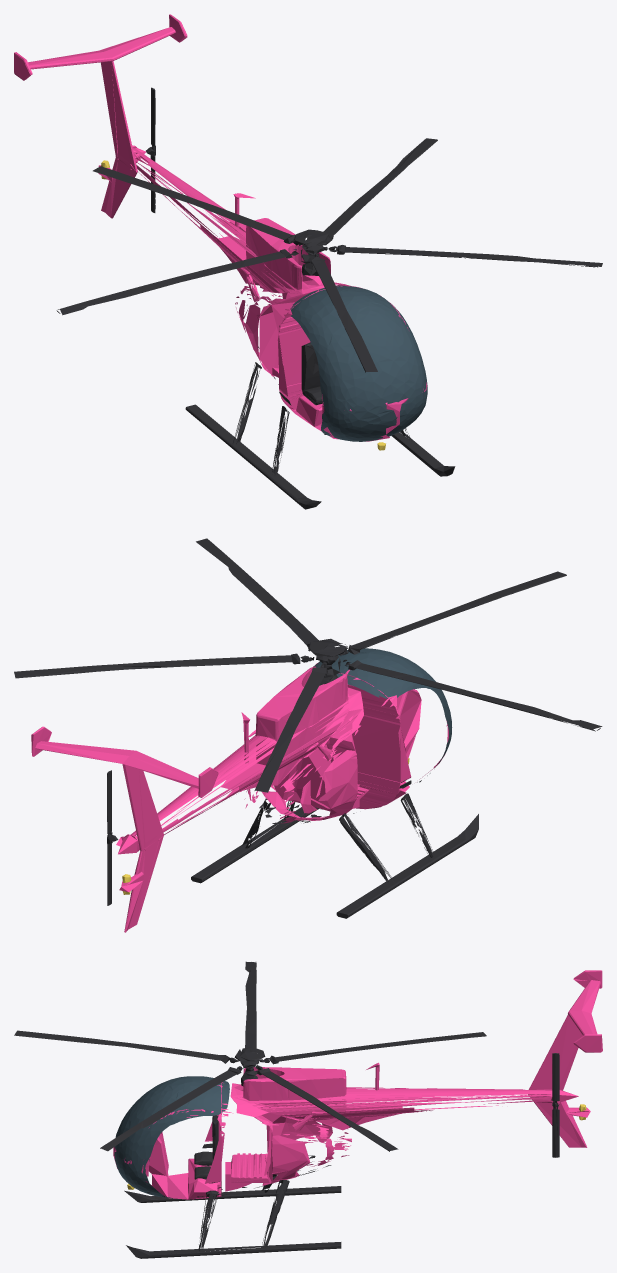
Rendered from heli.glb.
3 renders of one model, top to bottom at view 1: azimuth 30°, elevation 25°; view 2: azimuth 150°, elevation 25°; view 3: azimuth 270°, elevation 25°, orthographic. The views are drawn at different scales.
Parts seen in each view (by area): view 1: body, rotor; view 2: body, rotor, tail; view 3: body, rotor, tail.
Part boxes in pixels (x1=…): body: x1=14, y1=14, x2=455, y2=509; rotor: x1=56, y1=138, x2=602, y2=372; body: x1=31, y1=648, x2=478, y2=932; rotor: x1=14, y1=538, x2=602, y2=792; tail: x1=107, y1=770, x2=118, y2=905; body: x1=113, y1=970, x2=602, y2=1258; rotor: x1=14, y1=961, x2=486, y2=1151; tail: x1=552, y1=1053, x2=559, y2=1157.
Size of the model in its own units: 5.87 by 3.19 by 7.68.
